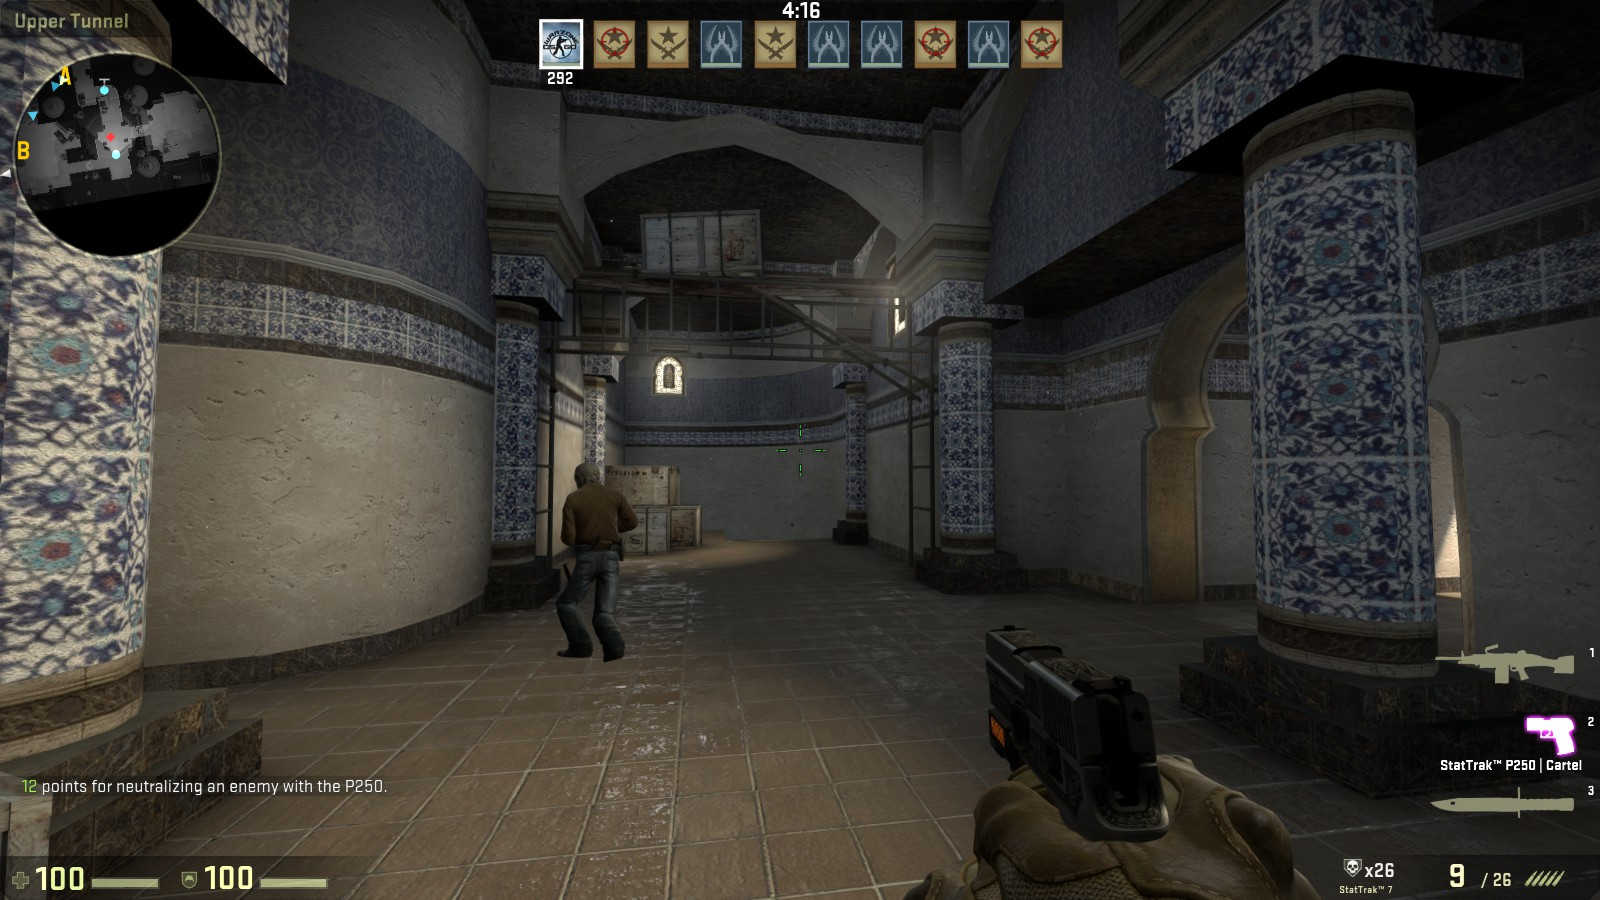t: (557, 459, 631, 658)
th: (573, 462, 600, 490)
